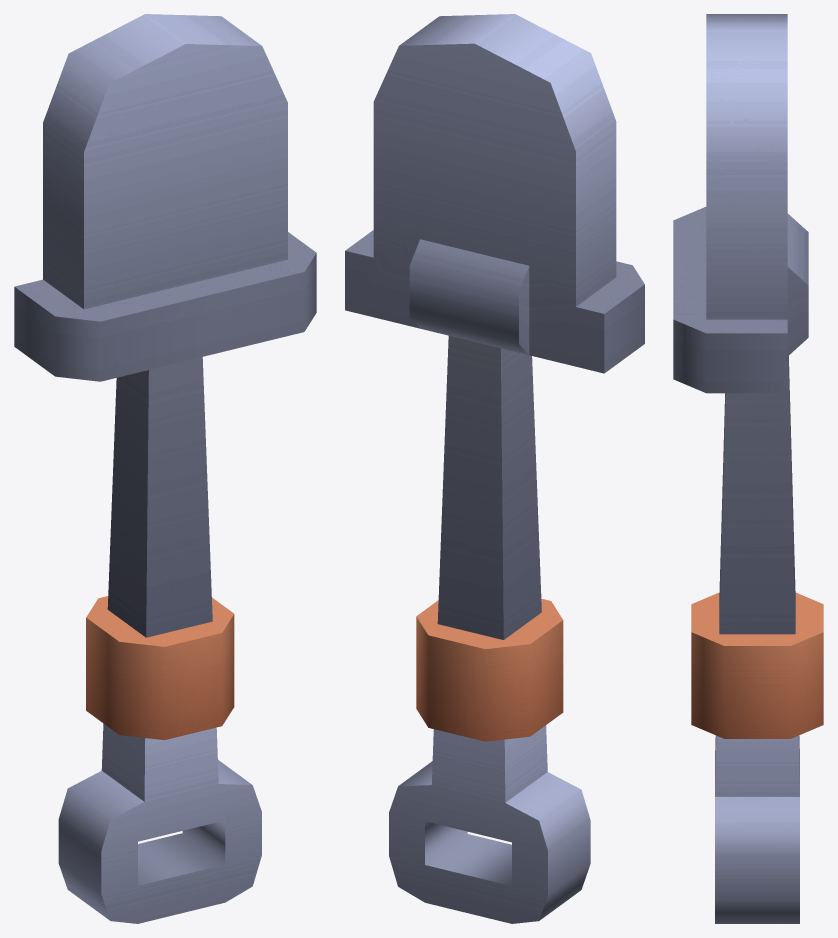
File: tool-shovel-upgraded.glb
3 views of the same model, side by side, from view 1: azimuth 30°, elevation 25°; view 2: azimuth 150°, elevation 25°; view 3: azimuth 270°, elevation 25° (orthographic).
Parts seen in each view (by area): view 1: tool-shovel-upgraded; view 2: tool-shovel-upgraded; view 3: tool-shovel-upgraded.
Boxes of the visible parts, box(x1,y1,x2,y2) form: tool-shovel-upgraded: box(14, 14, 316, 923); tool-shovel-upgraded: box(345, 14, 644, 923); tool-shovel-upgraded: box(673, 14, 823, 923).
Size of the model in its own units: 0.0909 by 0.29 by 0.0455.
1 material, 1 textured.
